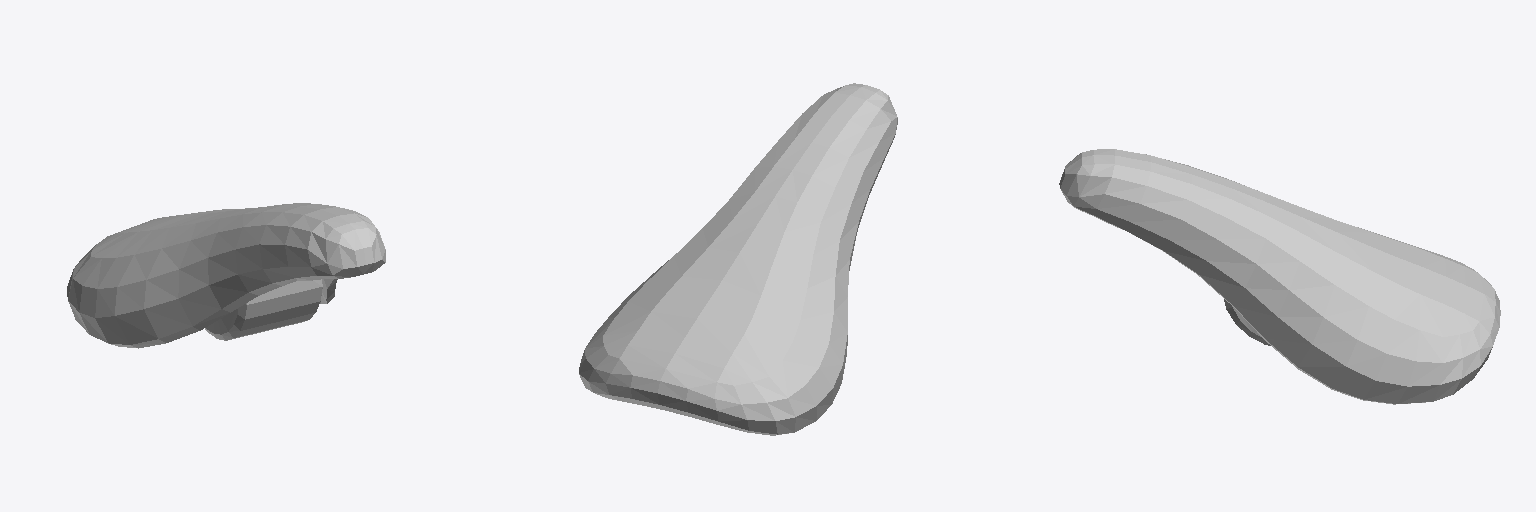
Rendered from Seat_LOD1-sharedassets2.assets-219.obj.
The picture shows the model from 3 angles: view 1: azimuth 30°, elevation 25°; view 2: azimuth 150°, elevation 25°; view 3: azimuth 270°, elevation 25°; orthographic projection.
Parts seen in each view (by area): view 1: Seat_LOD1_0; view 2: Seat_LOD1_0; view 3: Seat_LOD1_0.
Part boxes in pixels (x1,y1,x2,y2): Seat_LOD1_0: (67,203,385,348); Seat_LOD1_0: (579,83,897,435); Seat_LOD1_0: (1059,149,1500,404).
Size of the model in its own units: 0.135 by 0.115 by 0.2283.